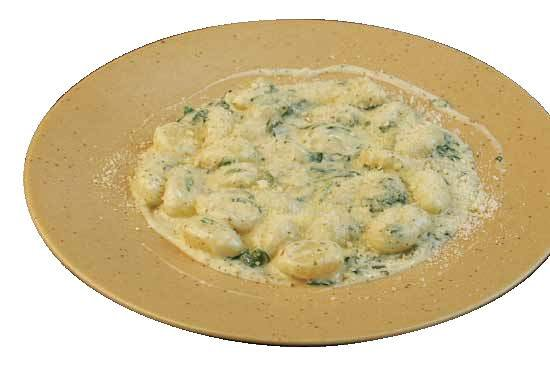curry: (239, 247, 270, 268)
sushi: (19, 19, 538, 357)
